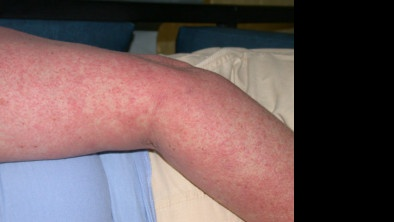SJS-TEN: (0, 14, 326, 222)
